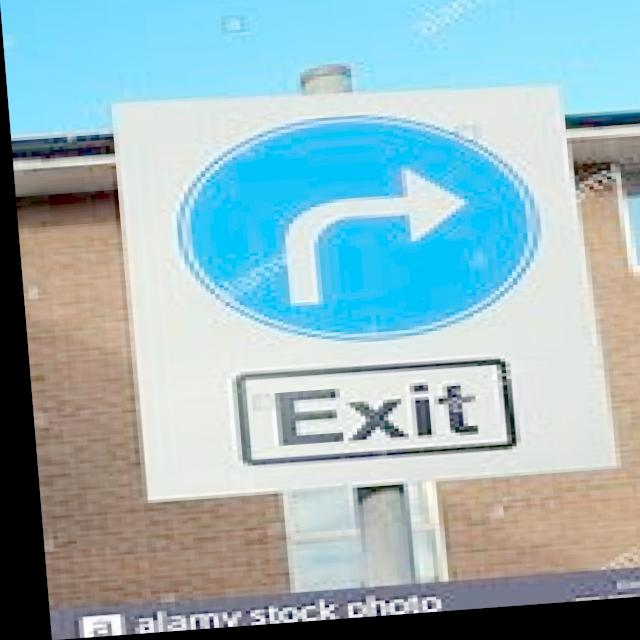COMPULSARY_TURN_RIGHT_AHEAD: (168, 109, 544, 355)
